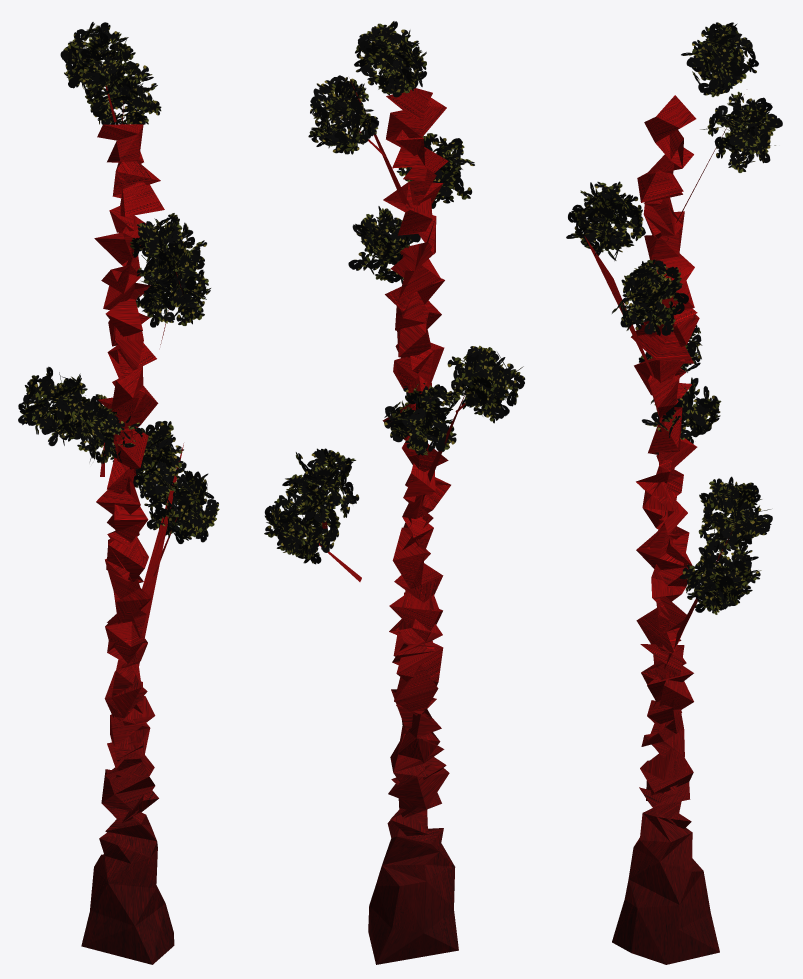
The model's file is deadwood_snag_v01_LOD2.glb.
3 views of the same model, side by side, from view 1: azimuth 30°, elevation 25°; view 2: azimuth 150°, elevation 25°; view 3: azimuth 270°, elevation 25° (orthographic). The views are drawn at different scales.
Visible parts, largest first — view 1: deadwood_snag_v01_LOD2; view 2: deadwood_snag_v01_LOD2; view 3: deadwood_snag_v01_LOD2.
Part boxes in pixels (box(x1,y1,x2,y2)): deadwood_snag_v01_LOD2: box(18, 22, 219, 964); deadwood_snag_v01_LOD2: box(264, 21, 525, 964); deadwood_snag_v01_LOD2: box(566, 22, 782, 964).
Bounding box in the file's own units: 4.05 × 15.67 × 3.49.
2 materials, 2 textured.
